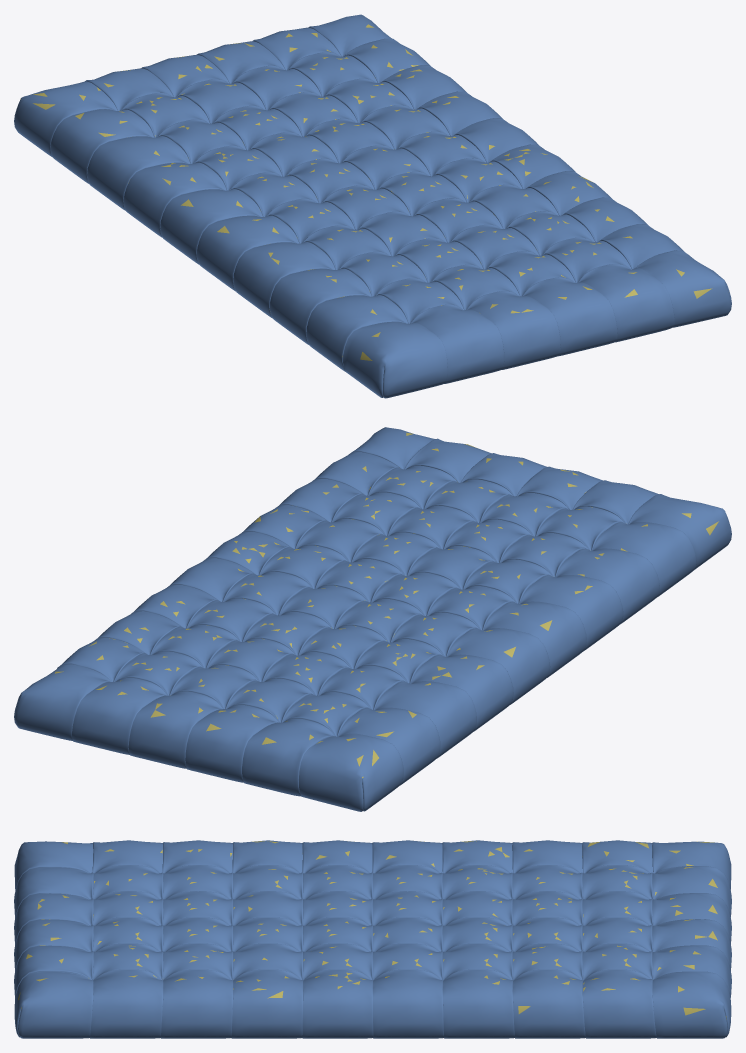
3 views of the same model, one above another, from view 1: azimuth 30°, elevation 25°; view 2: azimuth 150°, elevation 25°; view 3: azimuth 270°, elevation 25° (orthographic). The views are drawn at different scales.
Visible parts, largest first — view 1: 003-0-3; view 2: 003-0-3; view 3: 003-0-3.
Part boxes in pixels (bbox=[...]): 003-0-3: bbox=[14, 14, 731, 398]; 003-0-3: bbox=[14, 427, 731, 811]; 003-0-3: bbox=[14, 840, 731, 1038].
Size of the model in its own units: 100 by 12.73 by 182.
